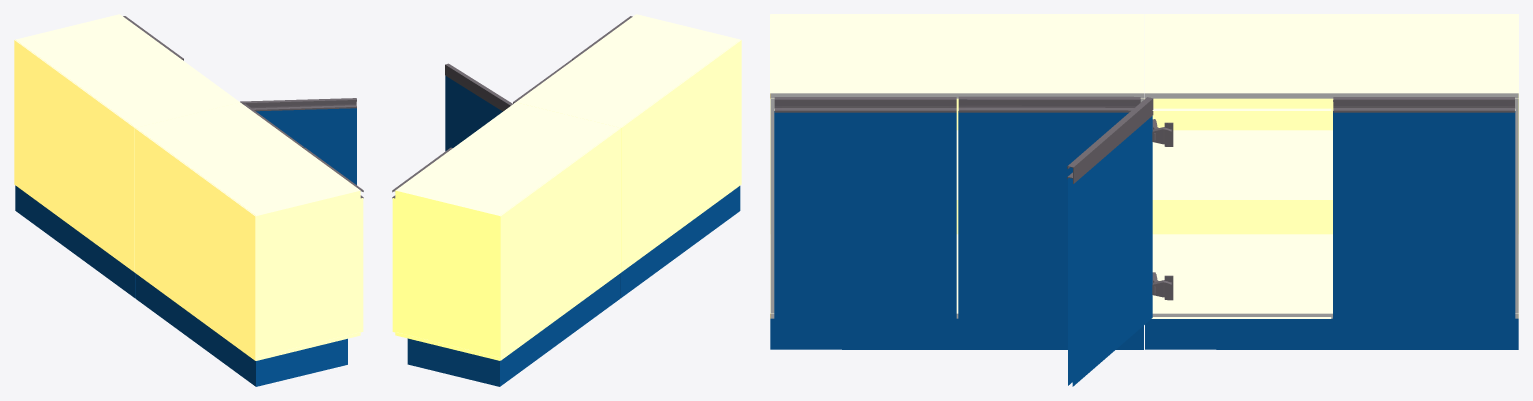
Rendered from cabinet1agood.gltf.
3 views of the same model, side by side, from view 1: azimuth 30°, elevation 25°; view 2: azimuth 150°, elevation 25°; view 3: azimuth 270°, elevation 25° (orthographic). The views are drawn at different scales.
Parts seen in each view (by area): view 1: BODY.001, BACK.001, BACK, BODY, BASE.001, ouvrir1, BASE, PULLER, EDGE TAPE DOOR.002; view 2: BODY, BACK, BACK.001, BODY.001, BASE, BASE.001, ouvrir1, PULLER, EDGE TAPE DOOR.001; view 3: BODY, ouvrir0, ouvrir3, BODY.001, ouvrir2, ouvrir1, Cubo, BASE, BACK, BASE.001, EDGE TAPE, PULLER.003 (+6 smaller).
Boxes of the visible parts, left/top/right/bottom form: BODY.001: left=136, top=102, right=360, bottom=360; BACK.001: left=135, top=128, right=256, bottom=360; BACK: left=14, top=40, right=135, bottom=272; BODY: left=15, top=14, right=239, bottom=127; BASE.001: left=136, top=274, right=347, bottom=386; ouvrir1: left=256, top=108, right=356, bottom=184; BASE: left=15, top=185, right=135, bottom=298; PULLER: left=240, top=98, right=356, bottom=111; EDGE TAPE DOOR.002: left=360, top=198, right=363, bottom=332; BODY: left=395, top=102, right=619, bottom=360; BACK: left=499, top=128, right=620, bottom=360; BACK.001: left=620, top=40, right=741, bottom=272; BODY.001: left=516, top=14, right=740, bottom=127; BASE: left=407, top=274, right=619, bottom=386; BASE.001: left=620, top=186, right=740, bottom=298; ouvrir1: left=445, top=76, right=502, bottom=150; PULLER: left=445, top=63, right=512, bottom=111; EDGE TAPE DOOR.001: left=392, top=198, right=395, bottom=332; BODY: left=1144, top=14, right=1518, bottom=318; ouvrir0: left=1333, top=111, right=1515, bottom=318; ouvrir3: left=774, top=111, right=956, bottom=318; BODY.001: left=770, top=14, right=1144, bottom=318; ouvrir2: left=958, top=111, right=1128, bottom=318; ouvrir1: left=1068, top=116, right=1152, bottom=386; Cubo: left=1152, top=130, right=1332, bottom=205; BASE: left=1145, top=318, right=1518, bottom=349; BACK: left=1144, top=14, right=1518, bottom=234; BASE.001: left=770, top=318, right=1143, bottom=349; EDGE TAPE: left=1144, top=93, right=1518, bottom=318; PULLER.003: left=958, top=96, right=1140, bottom=112.
Size of the model in its own units: 0.9544 by 0.785 by 2.
